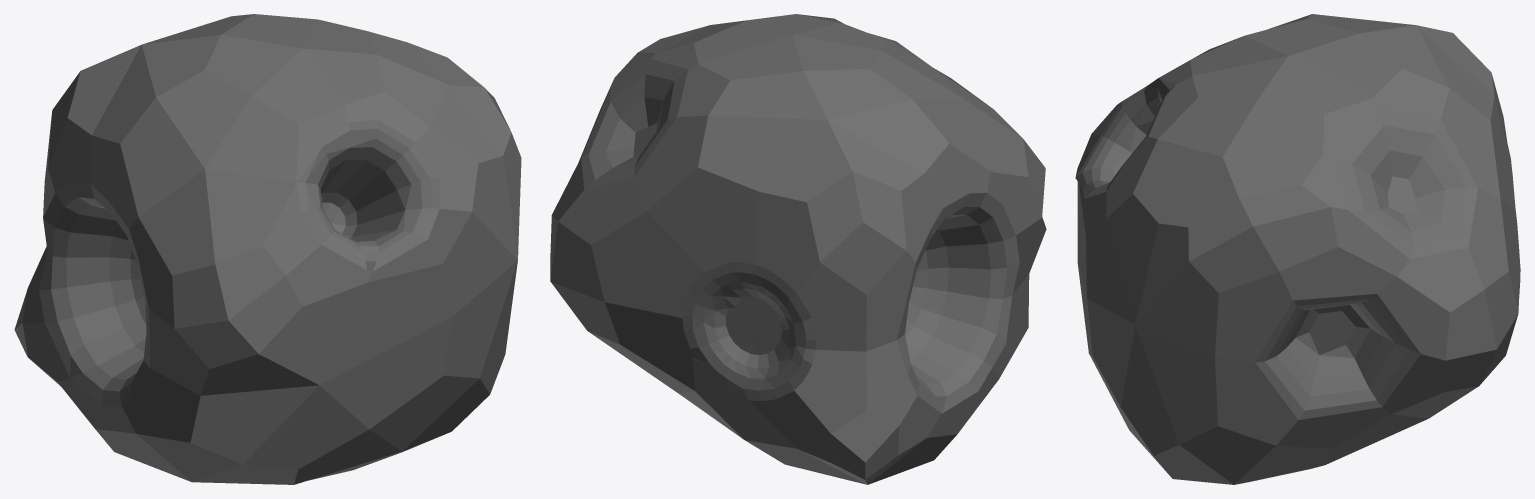
The model's file is Asteroid 1.fbx.
3 views of the same model, side by side, from view 1: azimuth 30°, elevation 25°; view 2: azimuth 150°, elevation 25°; view 3: azimuth 270°, elevation 25° (orthographic). The views are drawn at different scales.
Visible parts, largest first — view 1: Cube; view 2: Cube; view 3: Cube.
Part boxes in pixels (<box>): Cube: <box>14,14,521,484</box>; Cube: <box>550,14,1046,484</box>; Cube: <box>1075,14,1520,484</box>.
Bounding box in the file's own units: 192 × 194 × 191.
